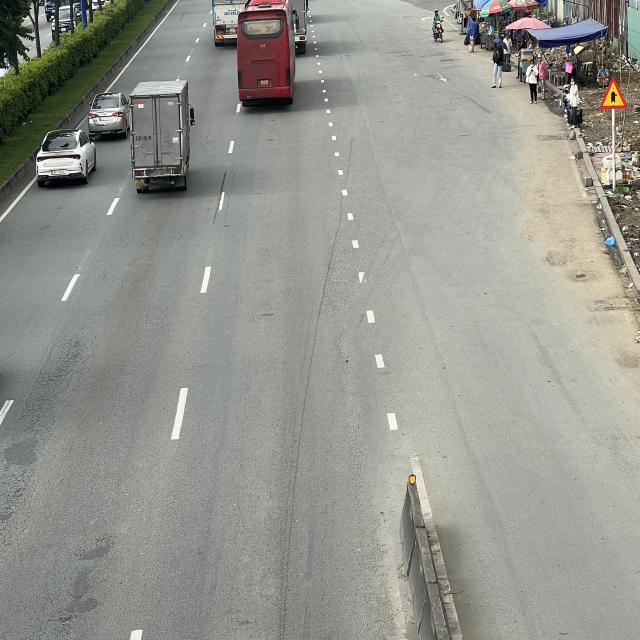car: (34, 129, 97, 184), (87, 90, 130, 140)
coach: (236, 1, 297, 106)
truck: (130, 80, 195, 192)
